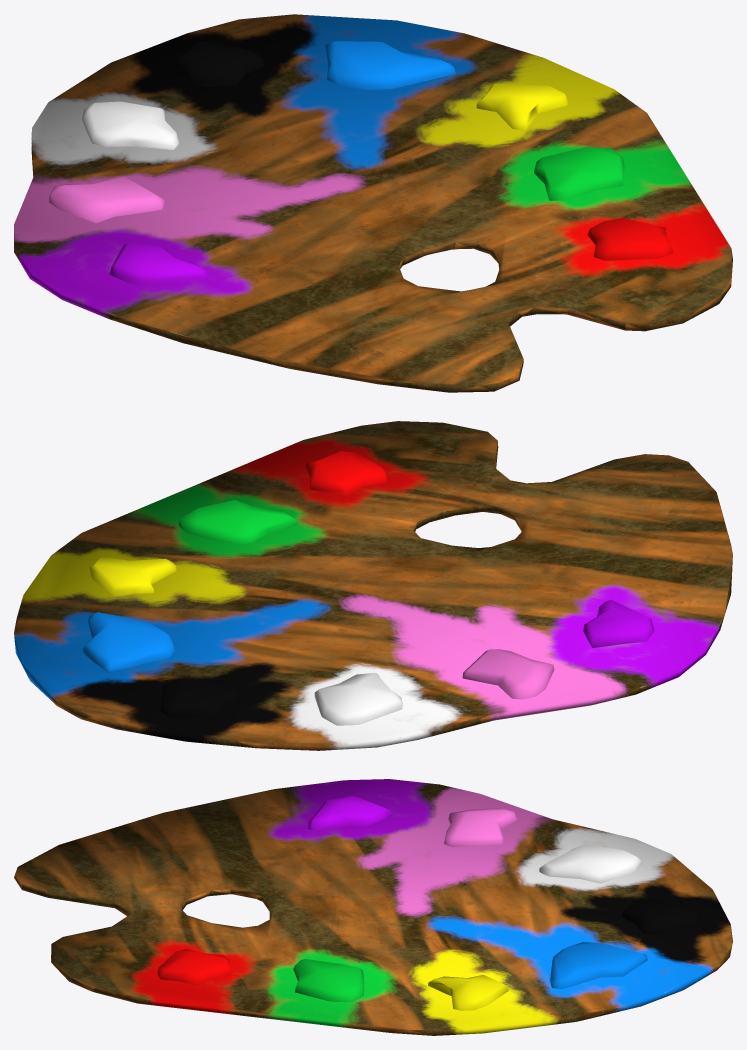
File: PainterpaletteL.fbx
The picture shows the model from 3 angles, top to bottom: view 1: azimuth 30°, elevation 25°; view 2: azimuth 150°, elevation 25°; view 3: azimuth 270°, elevation 25°; orthographic projection. The views are drawn at different scales.
Parts seen in each view (by area): view 1: PainterpaletteL; view 2: PainterpaletteL; view 3: PainterpaletteL.
Boxes of the visible parts, x1=… form: PainterpaletteL: x1=14, y1=14, x2=732, y2=392; PainterpaletteL: x1=14, y1=421, x2=732, y2=750; PainterpaletteL: x1=14, y1=779, x2=732, y2=1035.
Size of the model in its own units: 31.69 by 1.04 by 38.31.
